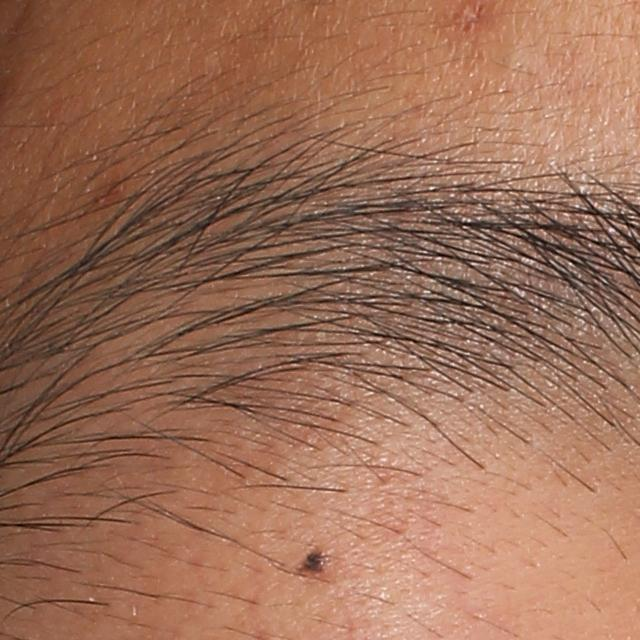nevus: (295, 542, 328, 578)
